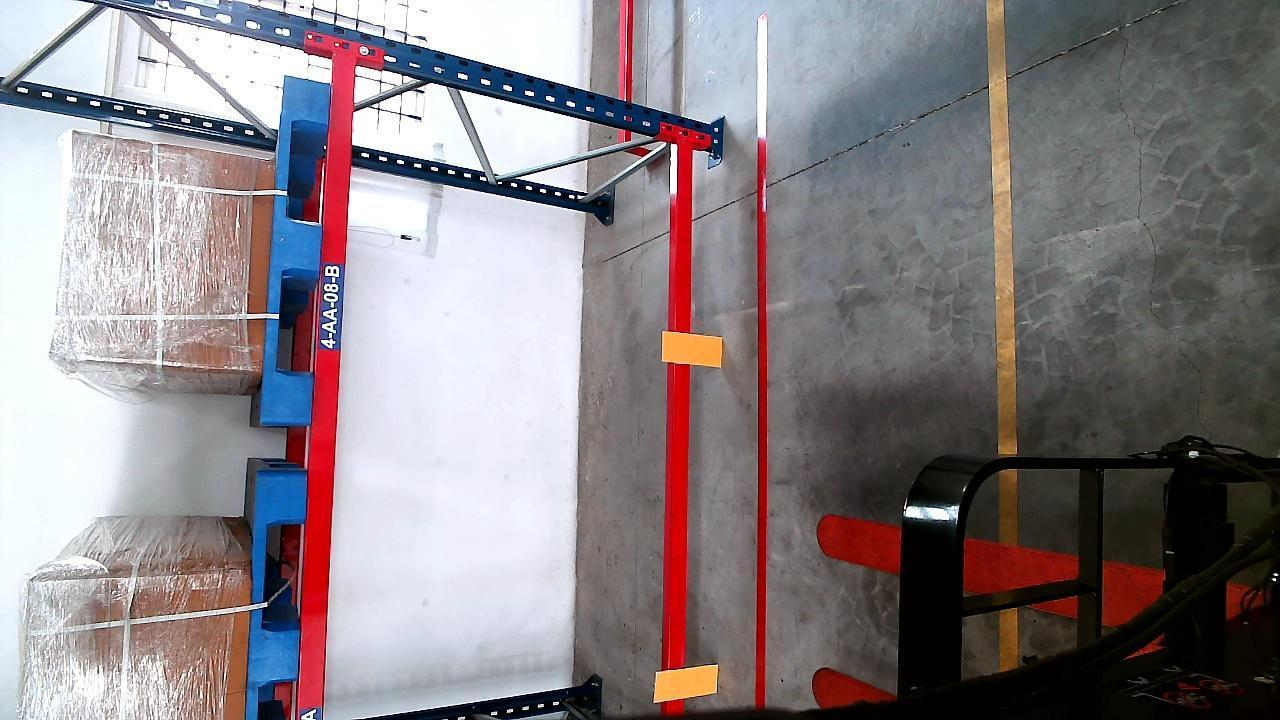h_rack: (294, 52, 356, 720), (664, 142, 695, 699)
orange_strip: (656, 663, 721, 703), (664, 331, 725, 366)
red_line: (749, 18, 777, 706)
small_pallet: (268, 77, 333, 425), (247, 476, 306, 720)
yellow_line: (989, 0, 1020, 675)
